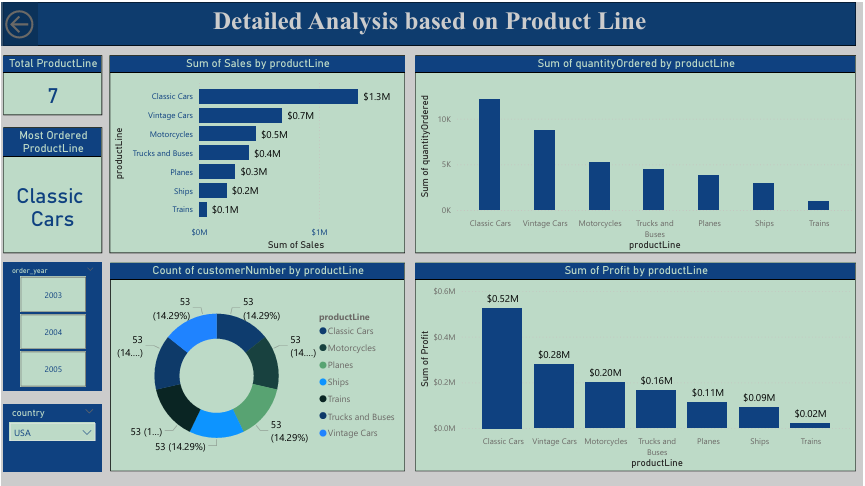

The dashboard page shown, as its layout file describes it:
{"tool":"powerbi","page":{"name":"Analysis based on productline","canvas":[1280,720],"ordinal":3},"visuals":[{"type":"barChart","fields":{"Category":["productlines.productLine"],"Y":["Sum(order details.Sales)"]},"box":[161.3,79,438.4,294],"z":0},{"type":"textbox","box":[2.8,0,1267.1,65.2],"z":1000},{"type":"ribbonChart","fields":{"Category":["productlines.productLine"],"Y":["Sum(order details.quantityOrdered)"]},"box":[614.8,79,655.1,294],"z":2000},{"type":"slicer","fields":{"Values":["orders.order_year"]},"box":[2.8,386.9,147.4,191.3],"z":3000},{"type":"donutChart","fields":{"Category":["productlines.productLine"],"Y":["CountNonNull(customers.customerNumber)"]},"box":[161.6,386.9,438,310.4],"z":4000},{"type":"clusteredColumnChart","fields":{"Category":["productlines.productLine"],"Y":["Sum(order details.Profit)"]},"box":[615.1,386.9,654.8,310.4],"z":5000},{"type":"card","title":"Total ProductLine","fields":{"Values":["Count(products.productLine)"]},"box":[3.4,79,146.1,89],"z":6000},{"type":"card","title":"Most Ordered ProductLine","fields":{"Values":["products.most_ordered_productline"]},"box":[3.4,186.5,146.1,186.5],"z":7000},{"type":"actionButton","box":[0,0,53.9,65.2],"z":8000},{"type":"slicer","fields":{"Values":["employees.country"]},"box":[2.8,596.7,147.4,100.6],"z":8001}]}

Visuals, with their boxes in screenshot pixels (x1, y1, x2, y2), scaled from the page's 1280x720 canvas onto the 865x486 screenshot:
barChart - productlines.productLine x Sum(order details.Sales): <bbox>109, 53, 405, 252</bbox>
textbox: <bbox>2, 0, 858, 44</bbox>
ribbonChart - productlines.productLine x Sum(order details.quantityOrdered): <bbox>415, 53, 858, 252</bbox>
slicer - orders.order_year: <bbox>2, 261, 102, 390</bbox>
donutChart - productlines.productLine x CountNonNull(customers.customerNumber): <bbox>109, 261, 405, 471</bbox>
clusteredColumnChart - productlines.productLine x Sum(order details.Profit): <bbox>416, 261, 858, 471</bbox>
"Total ProductLine" card: <bbox>2, 53, 101, 113</bbox>
"Most Ordered ProductLine" card: <bbox>2, 126, 101, 252</bbox>
actionButton: <bbox>0, 0, 36, 44</bbox>
slicer - employees.country: <bbox>2, 403, 102, 471</bbox>
